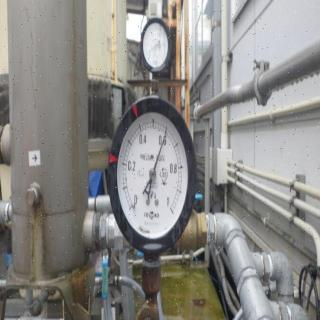gauge: (108, 83, 208, 258), (164, 204, 178, 222), (124, 199, 140, 214), (148, 167, 158, 181), (162, 132, 168, 140)
